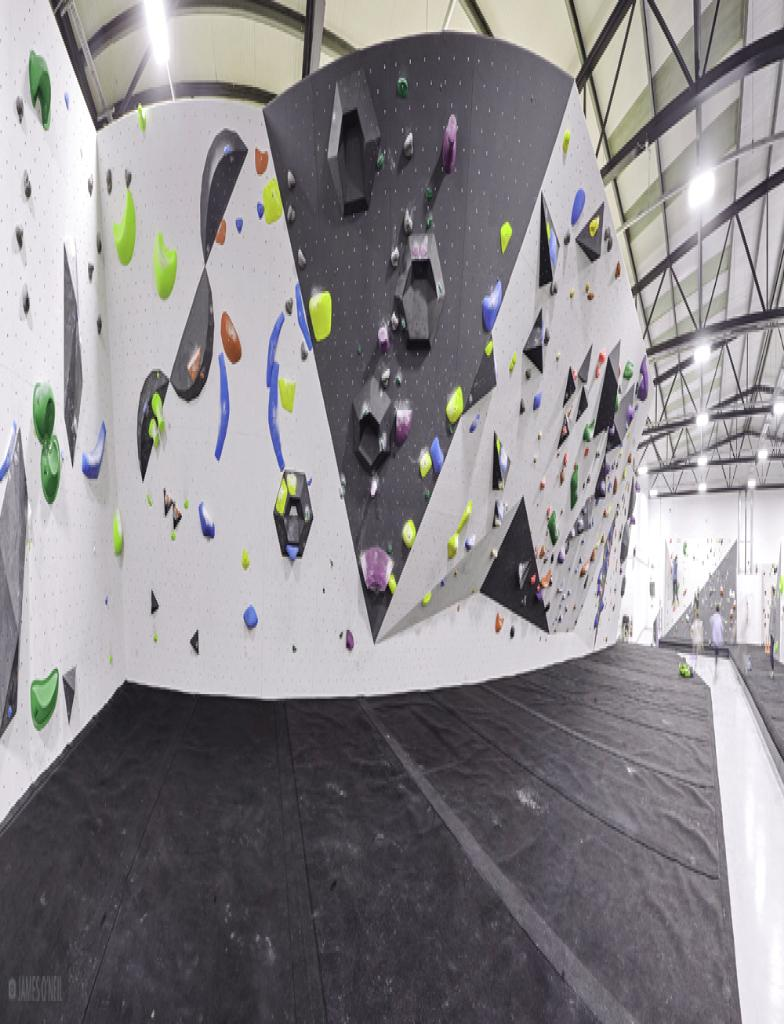crimp: (187, 346, 201, 380)
jug: (198, 502, 215, 538), (151, 392, 164, 431), (148, 417, 159, 447)
ledge: (31, 671, 58, 728), (40, 435, 60, 502)
sidepull: (267, 362, 284, 470), (114, 186, 135, 263), (215, 353, 229, 458)
sloper: (29, 50, 51, 128), (154, 231, 176, 298), (82, 422, 105, 479), (32, 383, 54, 442), (220, 312, 241, 362)
volume: (64, 245, 82, 460)
